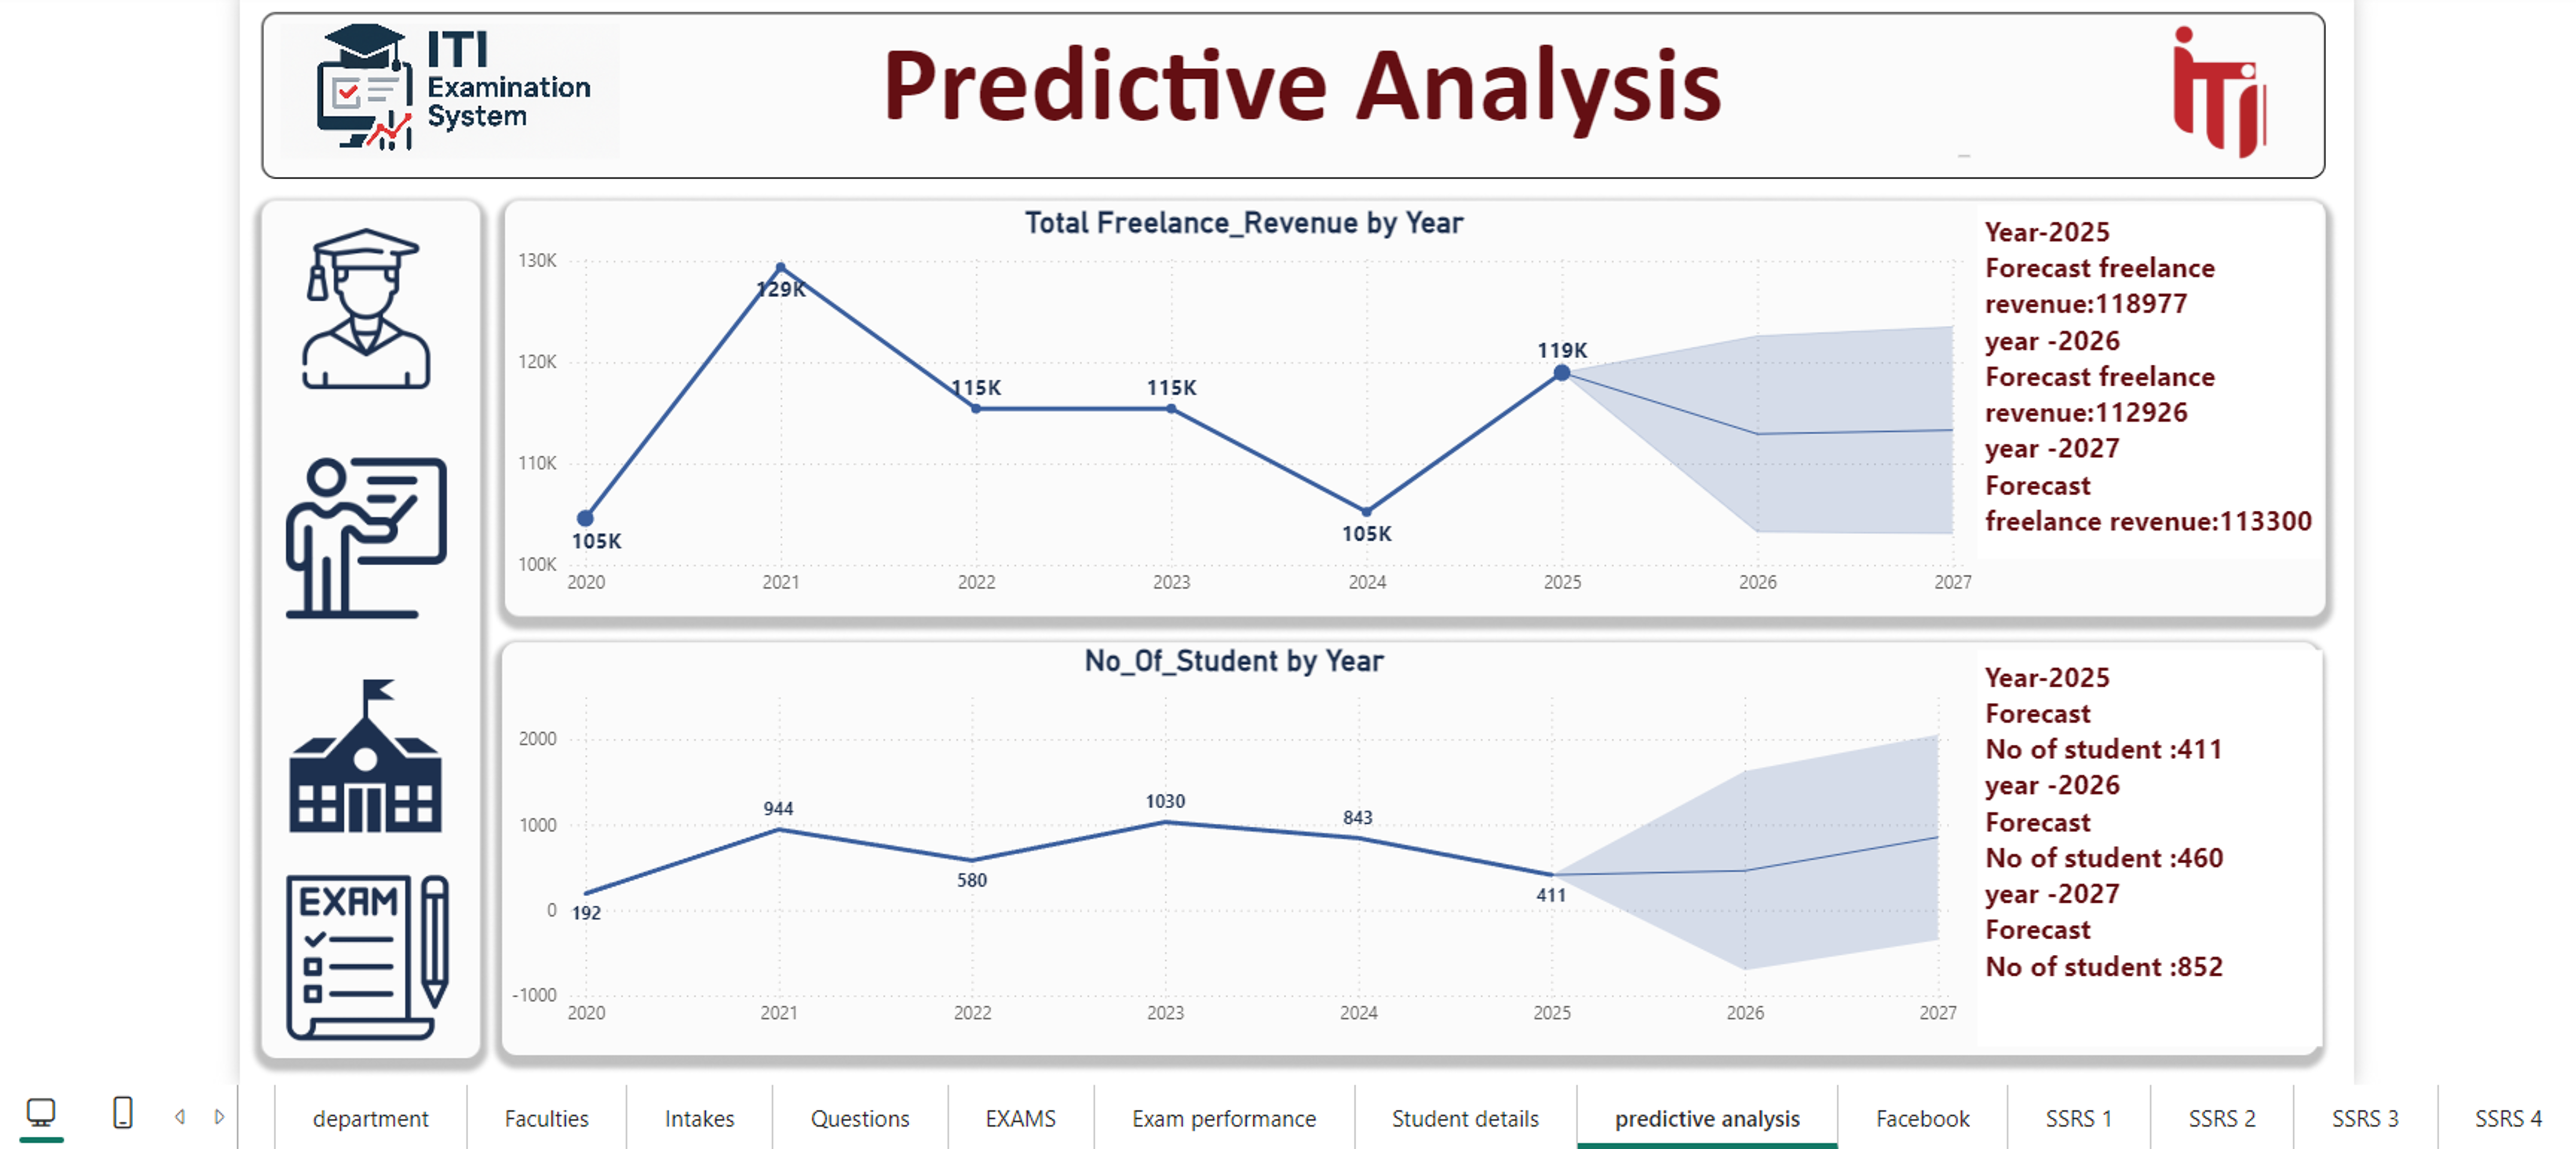

Layout of this report page (visuals, bound fields, positions):
{"tool":"powerbi","page":{"name":"predictive analysis","canvas":[1450,750],"ordinal":19},"visuals":[{"type":"lineChart","title":"Total  Freelance_Revenue by Year","fields":{"Y":["Sum(vw_Fact_Freelance.Freelance_Revenue)"],"Category":["Dim_Date.Year"]},"box":[184.8,146,1008.4,277.2],"z":0},{"type":"textbox","title":"Predictive Analysis","box":[265.9,15.4,926.3,102.9],"z":1000},{"type":"image","box":[1279.8,16.1,158,103.9],"z":2000},{"type":"image","box":[23.4,16.1,242.8,102.4],"z":3000},{"type":"image","box":[27.4,289.3,120.1,171.5],"z":4000},{"type":"image","box":[24,467.1,123.5,114.9],"z":5000},{"type":"image","box":[27.4,152.7,120.1,130.4],"z":6000},{"type":"image","box":[13.7,588.4,147.5,149.2],"z":7000},{"type":"lineChart","fields":{"Y":["_Measures.No_Of_Student"],"Category":["Dim_Date.Year"]},"box":[181.5,446.1,1002.1,272.2],"z":8000},{"type":"textbox","box":[1192.5,145.7,236.5,242.8],"z":9000},{"type":"textbox","box":[1192.5,451.2,236.5,272.2],"z":10000}]}

Visuals, with their boxes on the page's 1450x750 design canvas (x1, y1, x2, y2). These are canvas units, not pixel positions in the 2576x1149 screenshot, which may show the page scaled, cropped or inside an application window:
"Total  Freelance_Revenue by Year" lineChart: BBox(185, 146, 1193, 423)
"Predictive Analysis" textbox: BBox(266, 15, 1192, 118)
image: BBox(1280, 16, 1438, 120)
image: BBox(23, 16, 266, 118)
image: BBox(27, 289, 148, 461)
image: BBox(24, 467, 148, 582)
image: BBox(27, 153, 148, 283)
image: BBox(14, 588, 161, 738)
lineChart - _Measures.No_Of_Student x Dim_Date.Year: BBox(182, 446, 1184, 718)
textbox: BBox(1192, 146, 1429, 388)
textbox: BBox(1192, 451, 1429, 723)
